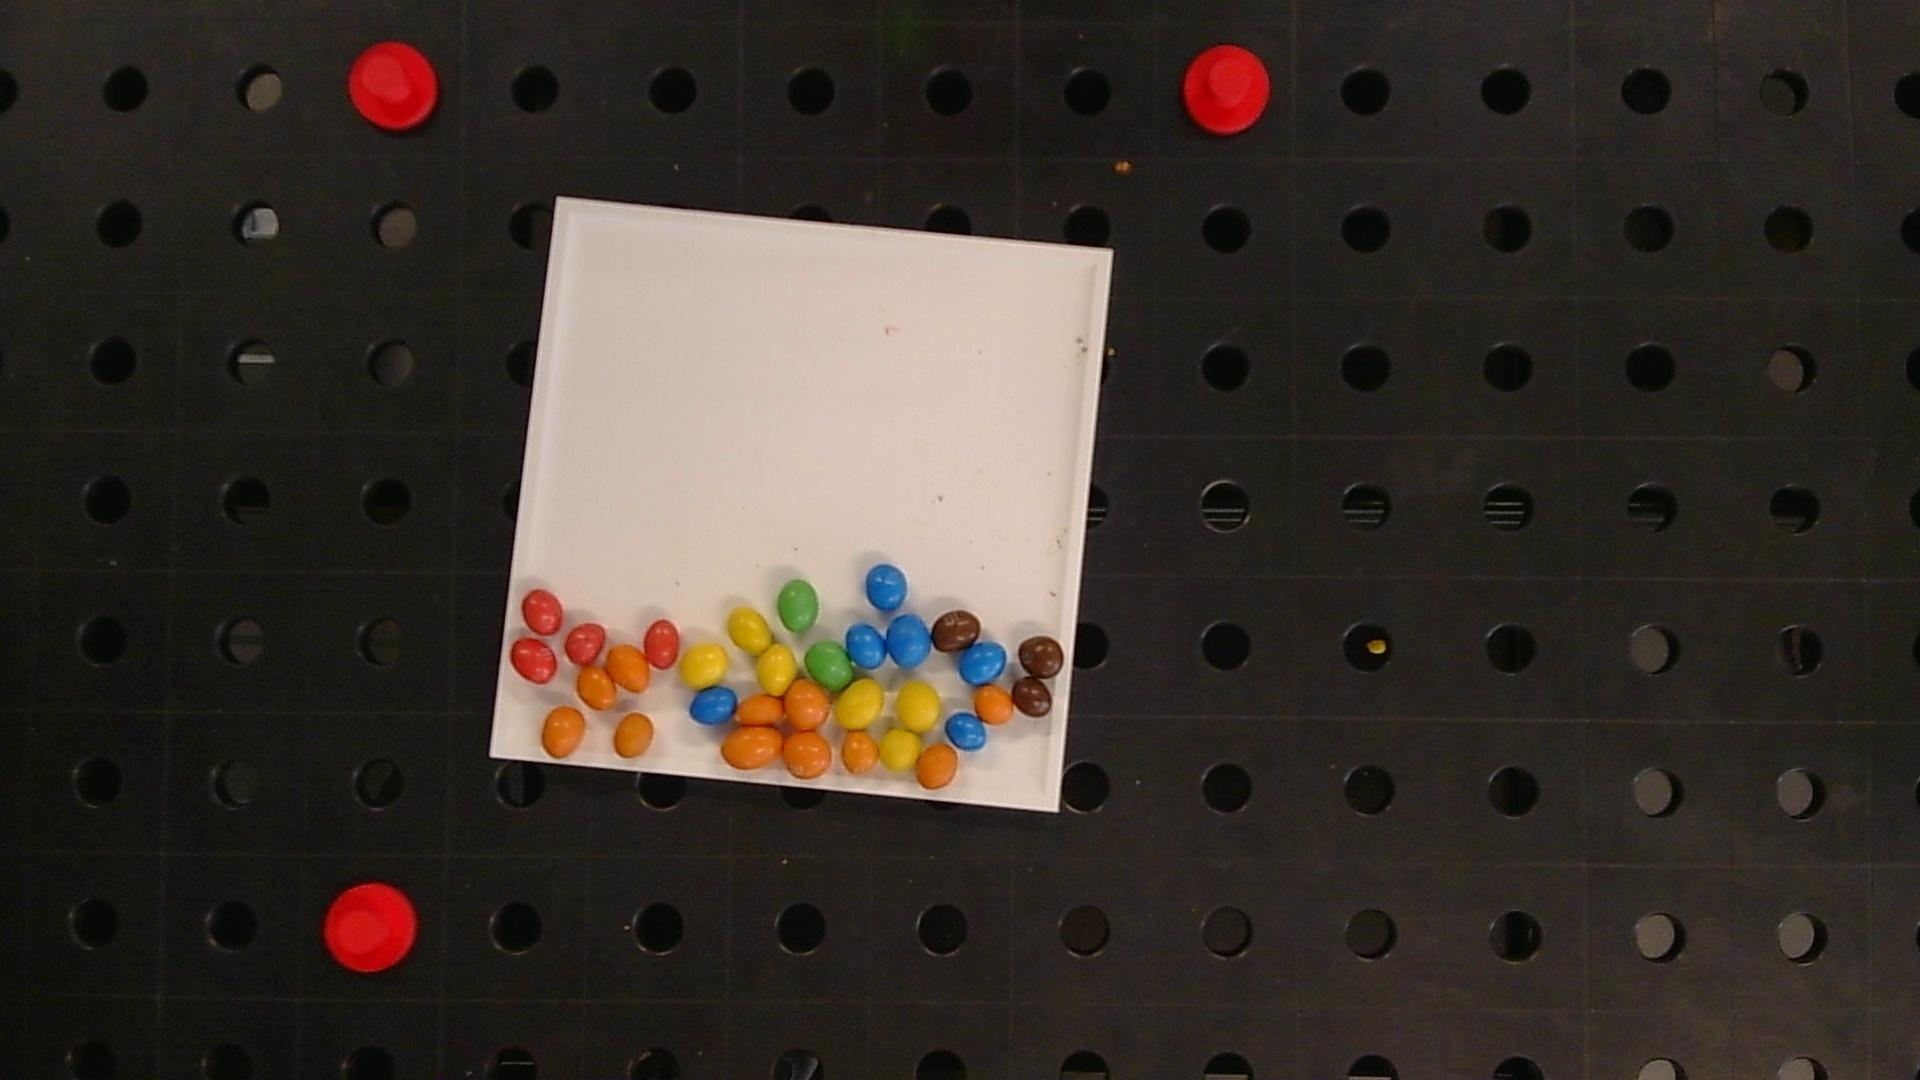blue: (886, 615, 932, 667), (959, 642, 1006, 684), (866, 564, 907, 612), (690, 686, 737, 725), (847, 622, 886, 670), (944, 712, 986, 750)
brown: (931, 609, 981, 651), (1019, 636, 1064, 679), (1011, 679, 1054, 717)
green: (806, 642, 853, 690), (778, 579, 820, 632)
orange: (721, 727, 782, 769), (785, 680, 831, 729), (542, 705, 585, 757), (783, 732, 831, 778), (607, 645, 650, 692), (913, 744, 959, 787), (613, 713, 654, 757), (841, 732, 880, 774), (975, 684, 1014, 724), (578, 667, 615, 709), (737, 694, 783, 725)
red: (510, 638, 556, 683), (521, 589, 563, 634), (644, 618, 679, 669), (564, 622, 605, 665)
yellow: (835, 679, 884, 729), (895, 682, 940, 732), (682, 644, 728, 687), (728, 608, 771, 654), (757, 645, 796, 695), (880, 729, 920, 769)
